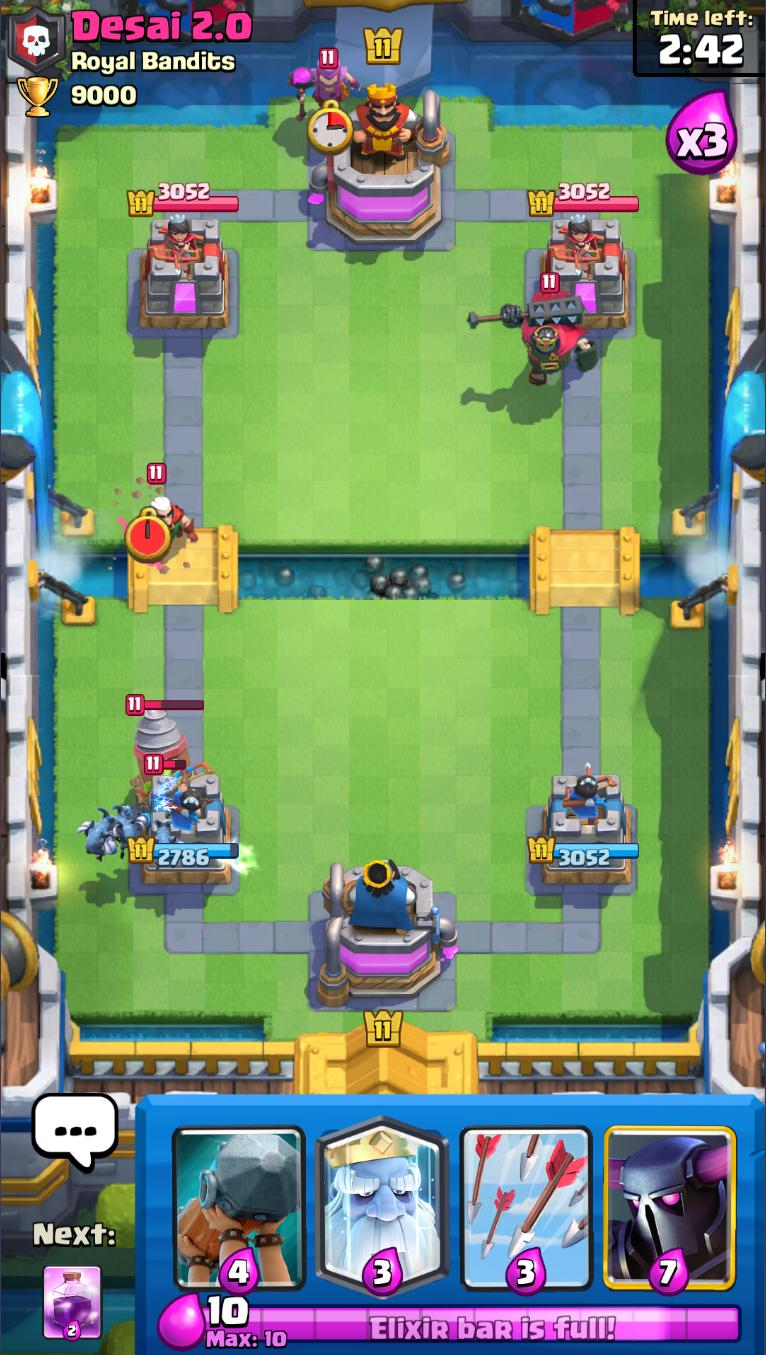ArrowDeck: (455, 1096, 598, 1297)
BattleRamDeck: (167, 1095, 311, 1295)
Elixir: (201, 1296, 743, 1350)
EnemyTower: (138, 215, 232, 331), (539, 215, 632, 331)
Goblin: (140, 754, 176, 800)
GoblinDrill: (126, 693, 205, 808)
KingTower: (310, 79, 451, 248)
MagicArcher: (120, 462, 199, 573)
MotherWitch: (291, 48, 362, 123)
MyKingTower: (314, 857, 459, 1008)
MyMinion: (110, 804, 155, 857), (77, 810, 121, 862), (142, 821, 187, 870)
MyPrincessTower: (126, 773, 242, 889), (528, 770, 641, 889)
MyPrincessTowerHP: (125, 836, 241, 870), (527, 835, 641, 868)
PekkaDeck: (597, 1097, 743, 1297)
PrincessTower: (149, 215, 203, 277), (551, 215, 604, 273)
RageNext: (42, 1262, 102, 1342)
RoyaleGhostDeck: (310, 1095, 457, 1296)
SkeletonKing: (467, 272, 600, 386)
TowerPrincessHP: (127, 182, 240, 217), (528, 182, 641, 216)
